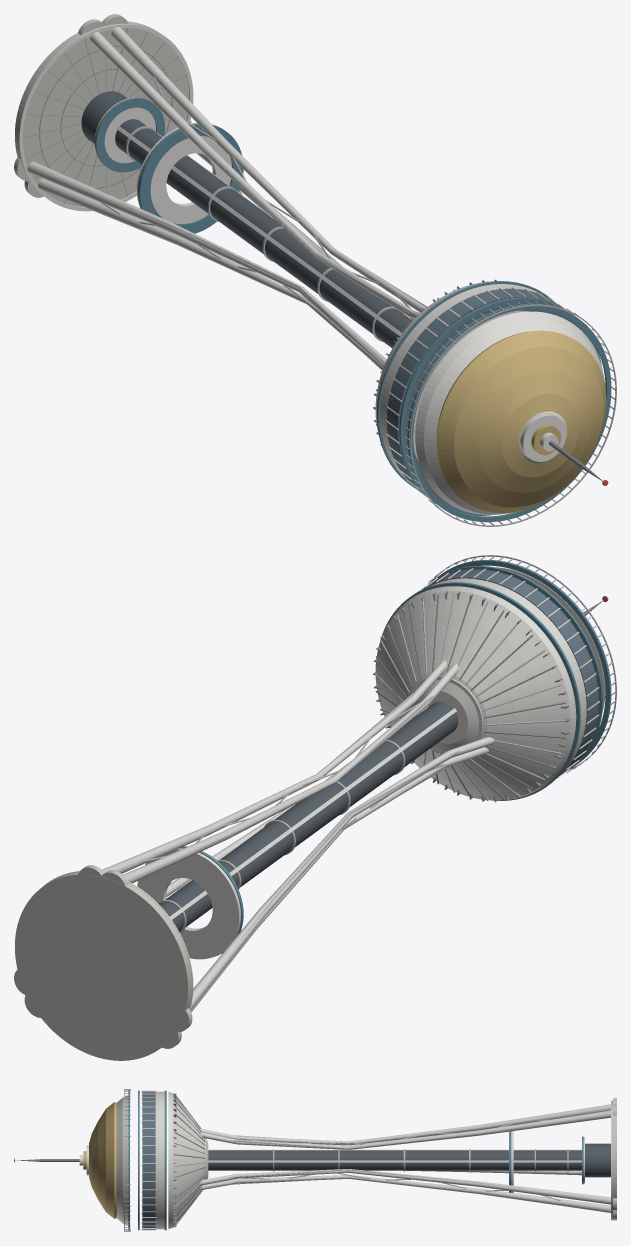
The model's file is space_needle_v2_reference_study.glb.
The picture shows the model from 3 angles, top to bottom: view 1: azimuth 30°, elevation 25°; view 2: azimuth 150°, elevation 25°; view 3: azimuth 270°, elevation 25°; orthographic projection. The views are drawn at different scales.
Visible parts, largest first — view 1: v2_part_335, v2_part_000, v2_part_034, v2_part_334, v2_part_209, v2_part_212, v2_part_032, v2_part_208, v2_part_033, v2_part_211, v2_part_001, v2_part_031 (+19 smaller); view 2: v2_part_207, v2_part_000, v2_part_034, v2_part_032, v2_part_209, v2_part_212, v2_part_208, v2_part_210, v2_part_036, v2_part_211, v2_part_051, v2_part_076 (+10 smaller); view 3: v2_part_034, v2_part_207, v2_part_335, v2_part_209, v2_part_334, v2_part_208, v2_part_035, v2_part_029, v2_part_036, v2_part_101, v2_part_106, v2_part_051 (+19 smaller).
Part boxes in pixels (x1,y1,x2,y2): v2_part_335: (436,330,606,512); v2_part_000: (15,21,189,206); v2_part_034: (115,119,412,348); v2_part_334: (415,311,605,514); v2_part_209: (386,288,580,505); v2_part_212: (407,303,611,522); v2_part_032: (137,122,231,223); v2_part_208: (380,284,544,479); v2_part_033: (138,123,243,233); v2_part_211: (399,297,601,515); v2_part_001: (19,24,193,211); v2_part_031: (95,97,164,172); v2_part_207: (375,586,576,800); v2_part_000: (15,872,192,1060); v2_part_034: (159,701,458,931); v2_part_032: (137,848,240,959); v2_part_209: (422,569,598,775); v2_part_212: (438,560,611,765); v2_part_208: (429,578,586,770); v2_part_210: (380,582,580,800); v2_part_036: (169,708,456,919); v2_part_211: (428,566,603,768); v2_part_051: (206,774,320,834); v2_part_076: (259,812,352,913); v2_part_034: (208,1150,581,1170); v2_part_207: (168,1092,208,1228); v2_part_335: (89,1102,116,1218); v2_part_209: (142,1091,155,1229); v2_part_334: (116,1096,128,1224); v2_part_208: (155,1091,164,1229); v2_part_035: (208,1160,581,1162); v2_part_029: (585,1143,610,1177); v2_part_036: (208,1149,581,1150); v2_part_101: (348,1175,479,1193); v2_part_106: (348,1169,479,1186); v2_part_051: (348,1130,479,1149).
Size of the model in its own units: 43.66 by 43.66 by 184.
